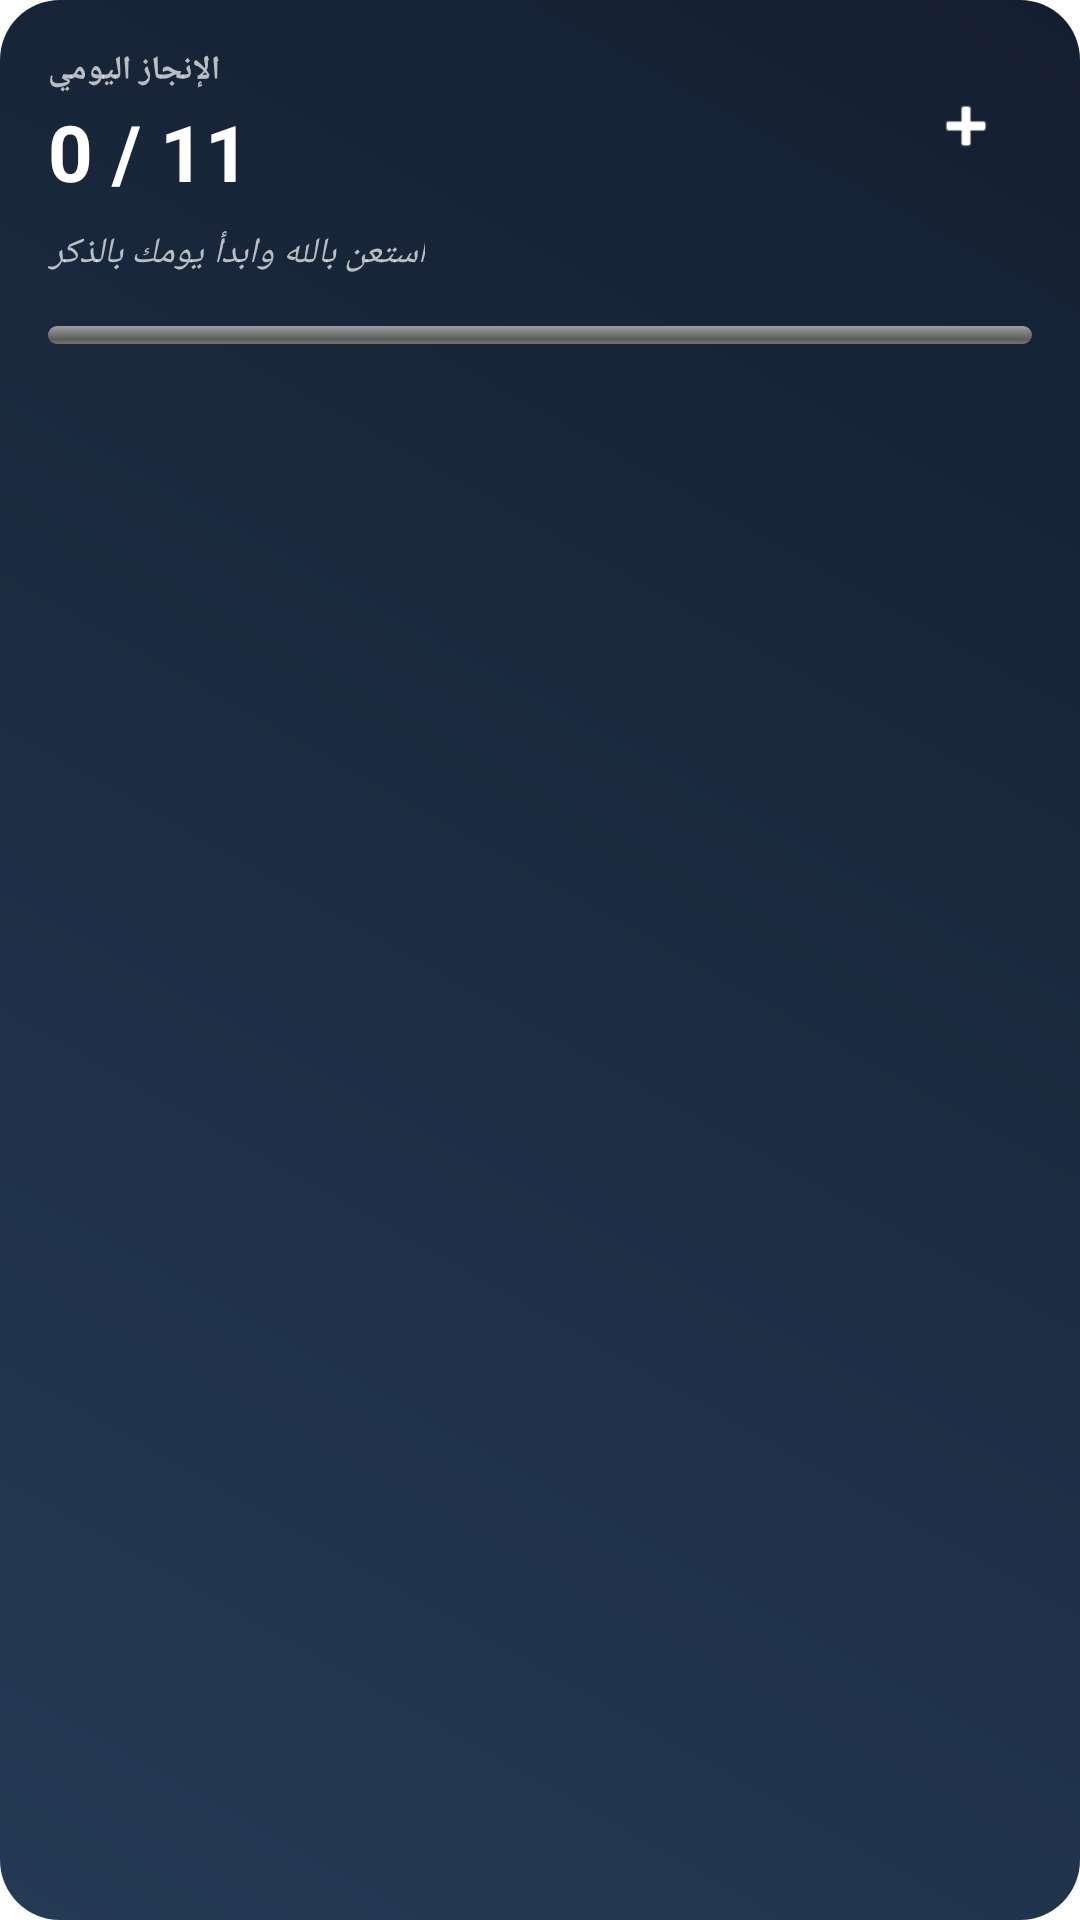

Screen size 1080px×1920px. Icon name, then its center in pixels as [x,y]:
add: [966,126]
